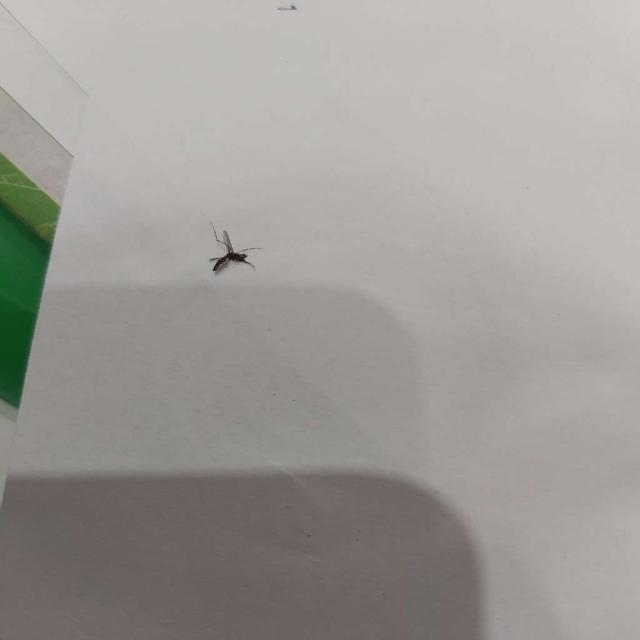albopictus: (199, 218, 269, 278)
